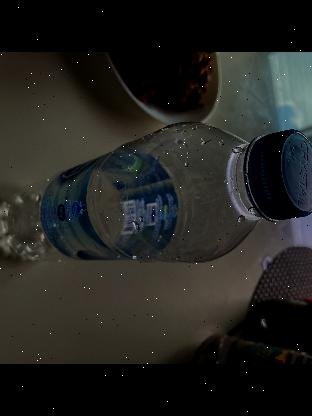Plastic Bottle: (0, 117, 312, 266)
